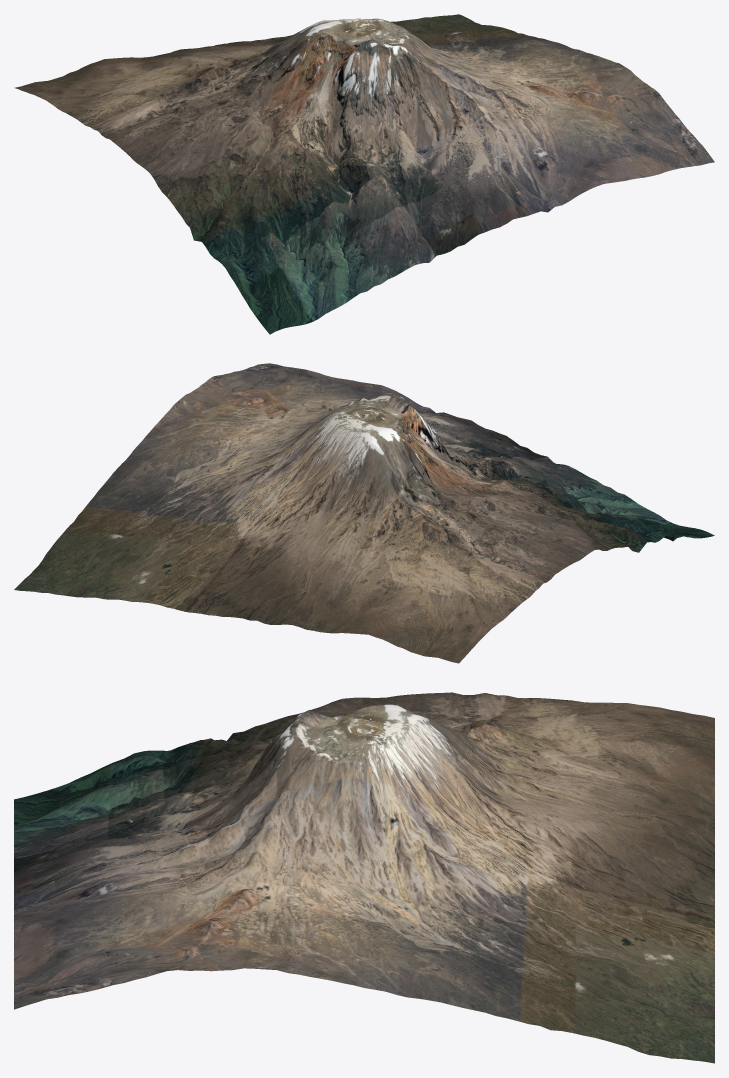
Rendered from kilimanjaro.glb.
The picture shows the model from 3 angles, top to bottom: view 1: azimuth 30°, elevation 25°; view 2: azimuth 150°, elevation 25°; view 3: azimuth 270°, elevation 25°; orthographic projection. The views are drawn at different scales.
Parts seen in each view (by area): view 1: EXPORT_GOOGLE_SAT_WM; view 2: EXPORT_GOOGLE_SAT_WM; view 3: EXPORT_GOOGLE_SAT_WM.
Part boxes in pixels (box(x1,y1,x2,y2)): EXPORT_GOOGLE_SAT_WM: box(14, 14, 714, 334); EXPORT_GOOGLE_SAT_WM: box(14, 363, 714, 663); EXPORT_GOOGLE_SAT_WM: box(14, 692, 714, 1063).
Bounding box in the file's own units: 16983 × 6021 × 16908.
Materials: 1 (1 with a texture image).
